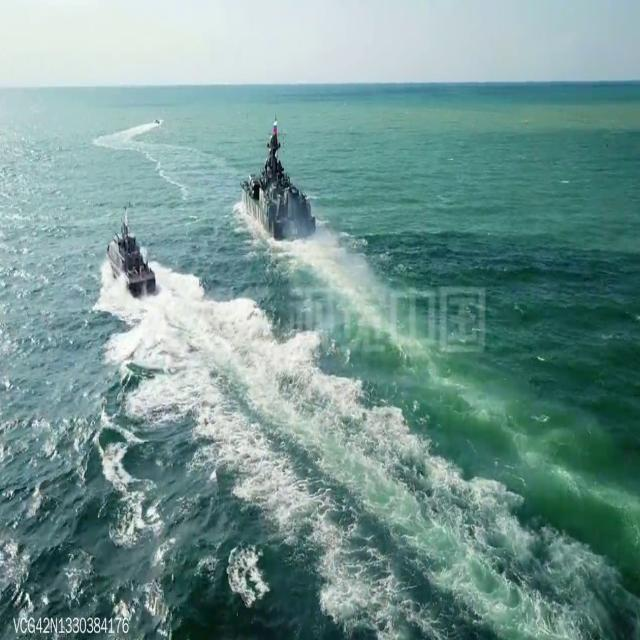houseboat: (242, 121, 318, 243), (106, 210, 158, 294), (150, 115, 162, 128)
